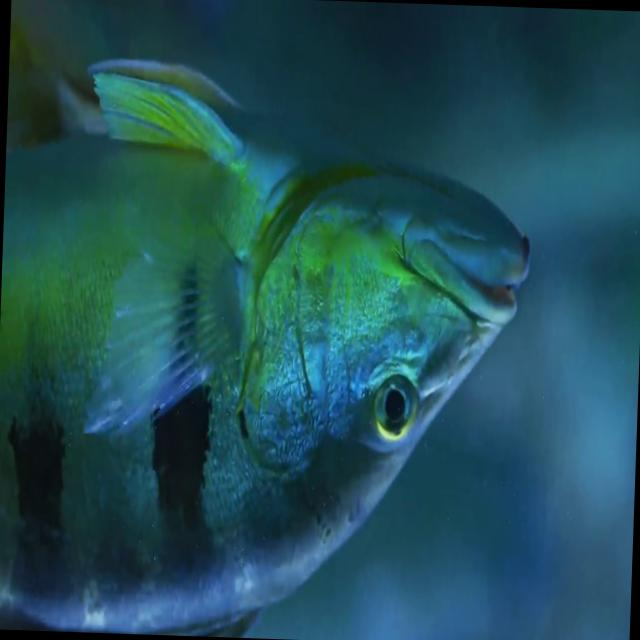fish: (0, 54, 538, 640)
